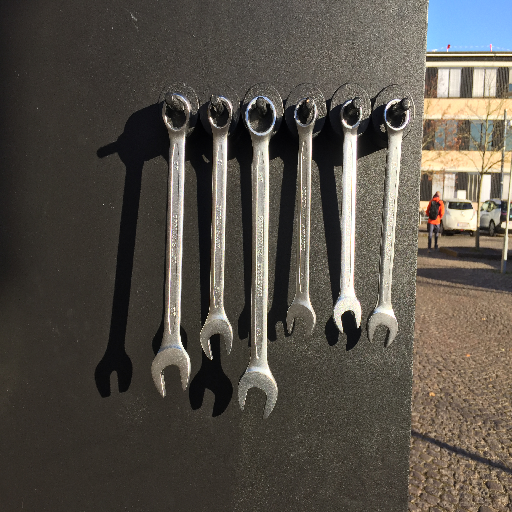bottom: (234, 370, 282, 422), (148, 350, 194, 399), (196, 314, 235, 363), (365, 303, 400, 347), (329, 299, 365, 334), (285, 300, 317, 338)
top: (242, 92, 276, 139), (157, 92, 195, 133), (204, 93, 234, 132), (290, 93, 320, 130), (382, 97, 412, 133), (337, 95, 364, 134)
